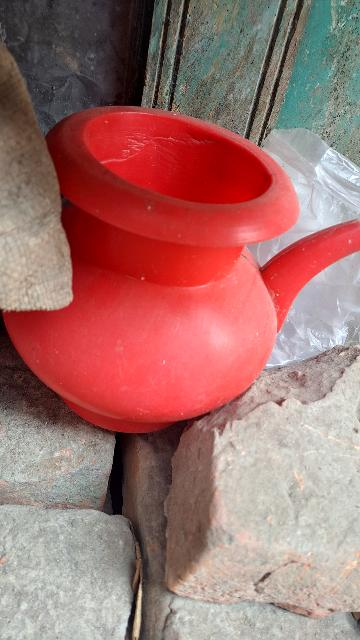hardplastic: (0, 71, 360, 432)
